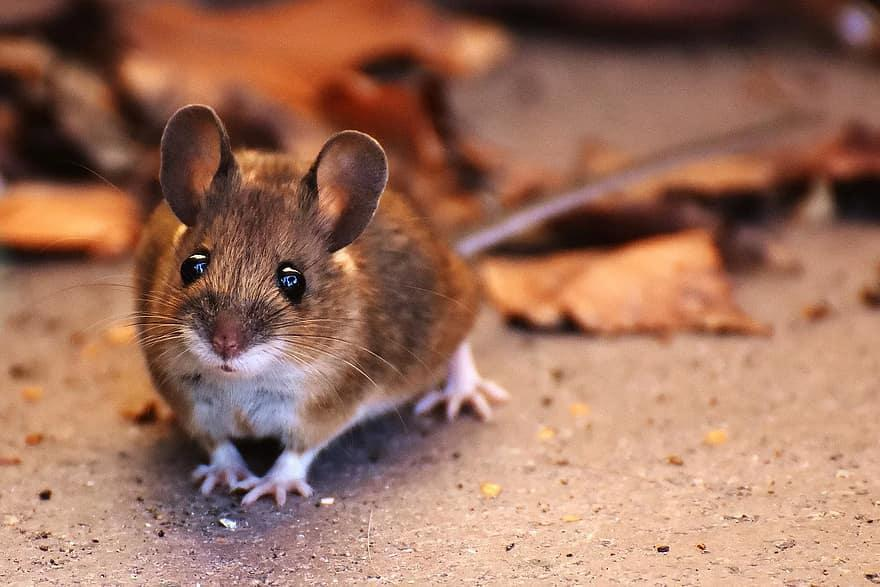rat: (135, 101, 507, 501)
